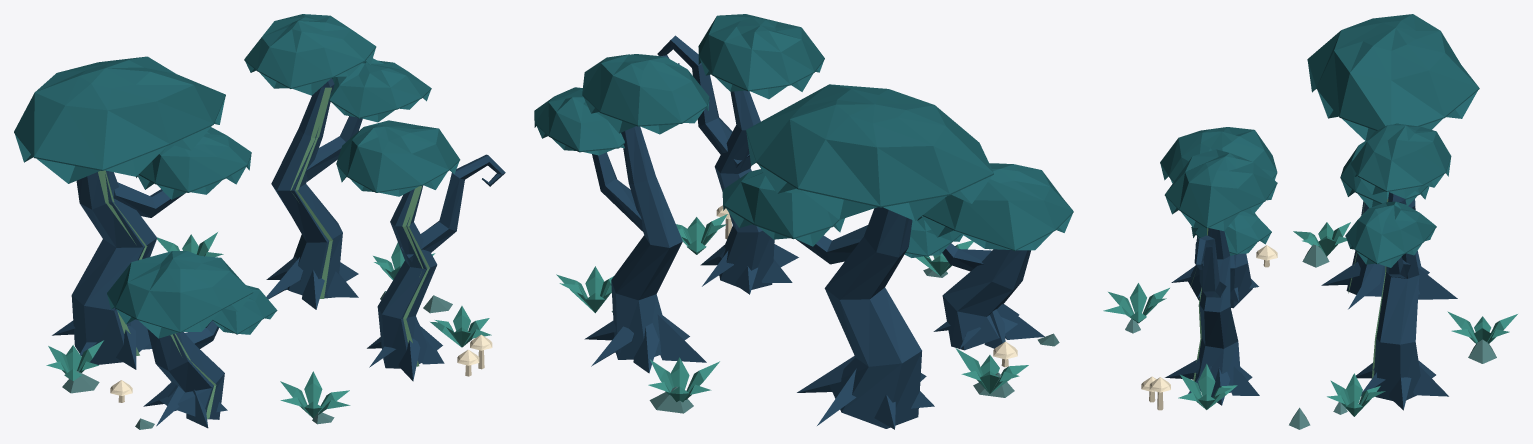
Rendered from decoration.glb.
The picture shows the model from 3 angles, left to right: view 1: azimuth 30°, elevation 25°; view 2: azimuth 150°, elevation 25°; view 3: azimuth 270°, elevation 25°; orthographic projection. The views are drawn at different scales.
Parts seen in each view (by area): view 1: Everfree_Tree_A, Everfree_Tree_B, Everfree_Tree_D, Everfree_Tree_C, Forest_Folded_Plants, Forest_Stones_And_Mushrooms; view 2: Everfree_Tree_A, Everfree_Tree_B, Everfree_Tree_C, Everfree_Tree_D, Forest_Folded_Plants, Forest_Stones_And_Mushrooms; view 3: Everfree_Tree_A, Everfree_Tree_B, Everfree_Tree_D, Everfree_Tree_C, Forest_Folded_Plants, Forest_Stones_And_Mushrooms.
Part boxes in pixels (x1,y1,x2,y2): Everfree_Tree_A: [14, 56, 251, 369]; Everfree_Tree_B: [244, 14, 431, 309]; Everfree_Tree_D: [336, 120, 505, 381]; Everfree_Tree_C: [107, 251, 277, 428]; Forest_Folded_Plants: [46, 232, 491, 418]; Forest_Stones_And_Mushrooms: [62, 291, 492, 429]; Everfree_Tree_A: [722, 84, 993, 429]; Everfree_Tree_B: [534, 54, 709, 373]; Everfree_Tree_C: [904, 163, 1073, 350]; Everfree_Tree_D: [657, 14, 824, 294]; Forest_Folded_Plants: [556, 214, 1028, 402]; Forest_Stones_And_Mushrooms: [611, 205, 1059, 413]; Everfree_Tree_A: [1307, 14, 1479, 309]; Everfree_Tree_B: [1345, 123, 1451, 410]; Everfree_Tree_D: [1164, 149, 1277, 405]; Everfree_Tree_C: [1160, 127, 1277, 308]; Forest_Folded_Plants: [1103, 222, 1517, 416]; Forest_Stones_And_Mushrooms: [1125, 244, 1496, 429].
Bounding box in the file's own units: 1.68 × 1.1 × 1.52.
